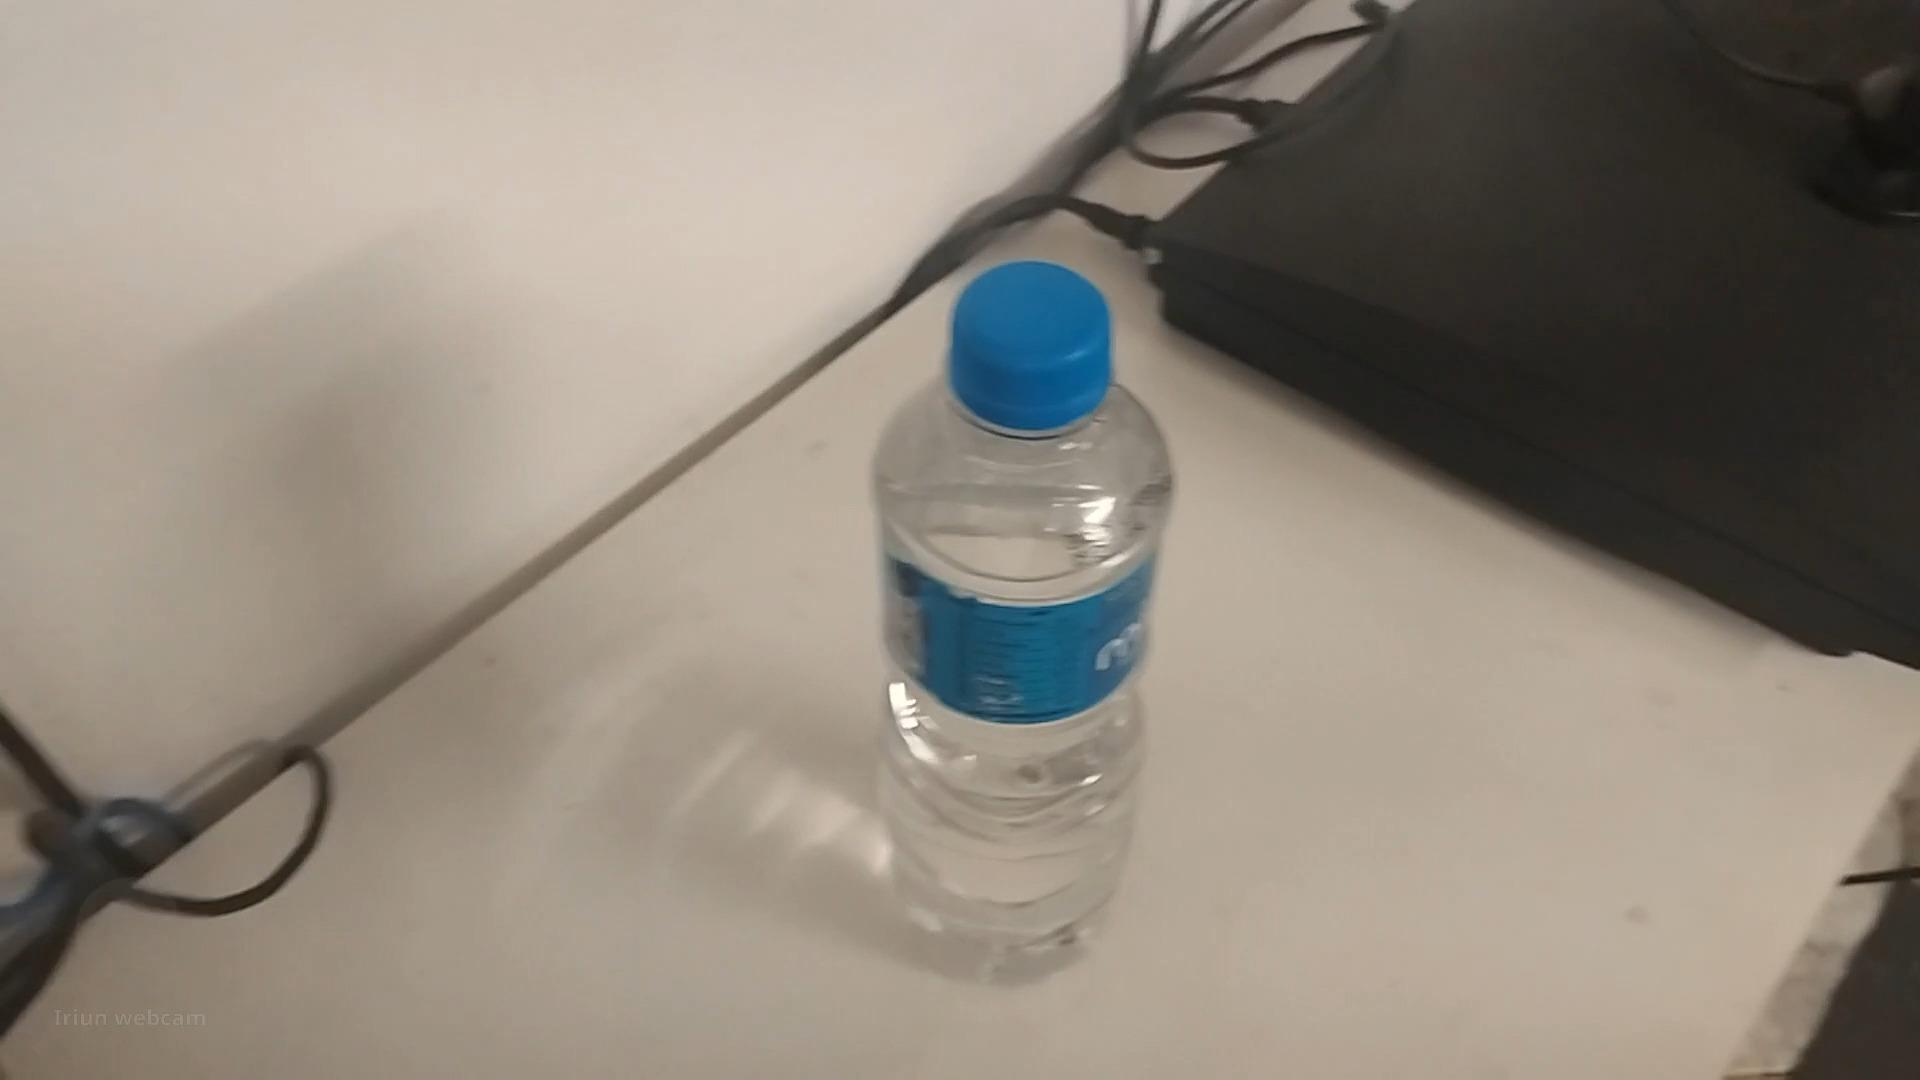agua: (872, 253, 1168, 957)
